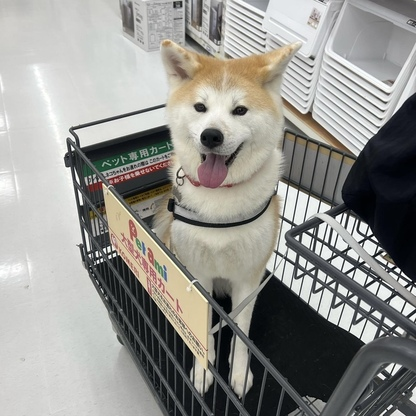akita: (145, 28, 310, 405)
